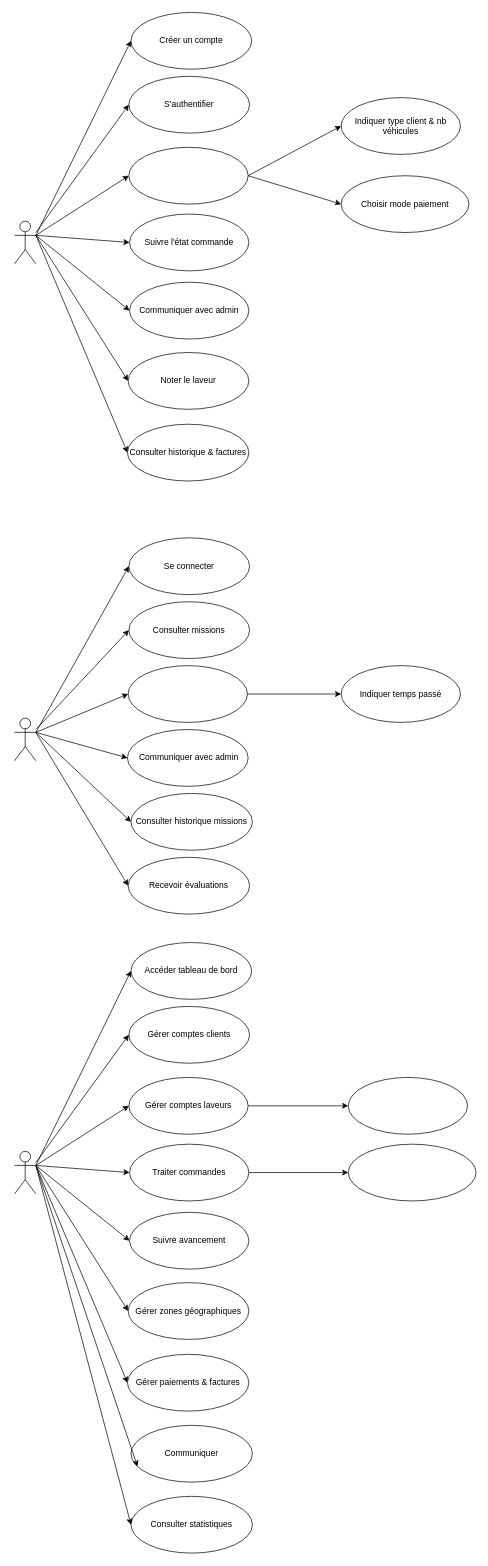
Image size: 488x1566. Some labels were removed from this diagram. Each missing label, with the centre of its shape:
Admin: point 25,1172
Assigner missions: point 412,1172
Client: point 25,242
Créer compte laveur: point 408,1105
Demander un service de lavage: point 188,175
Laveur: point 25,739
Mettre à jour statut: point 187,693
